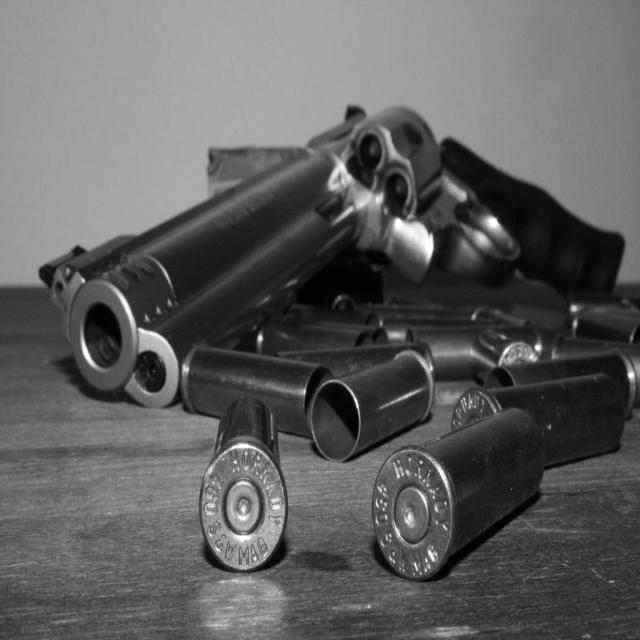Gun: (41, 106, 624, 407)
